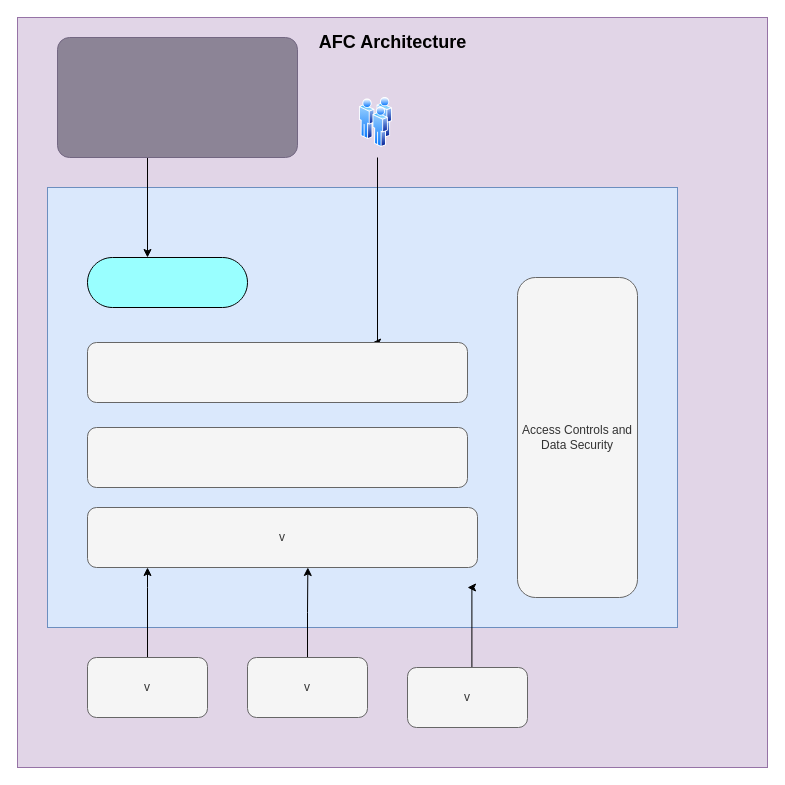
Some shapes in this 785 by 785 pixel diagram are drawn without their labels. Here are the shapes that lost their labels. From the top down, the centre of each, then its label:
At [177,97]: "External system name [Software System] Description of external software system.".
At [277,372]: "EPAS User Interface".
At [277,457]: "EPAS Core Functionalities and Logic".
